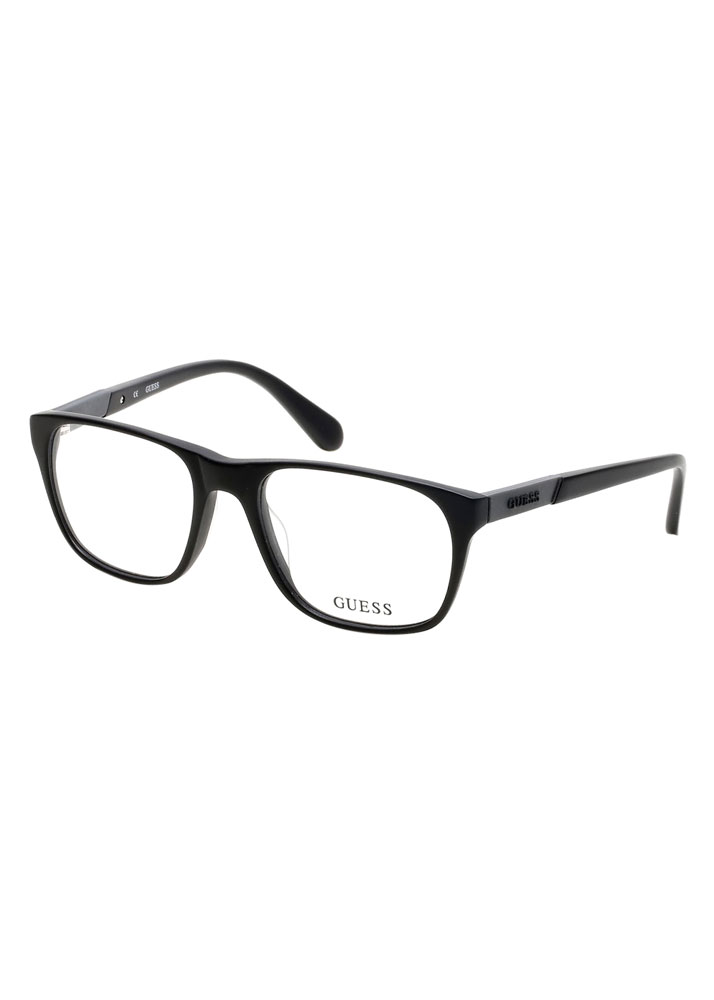Guess: (330, 585, 399, 625)
